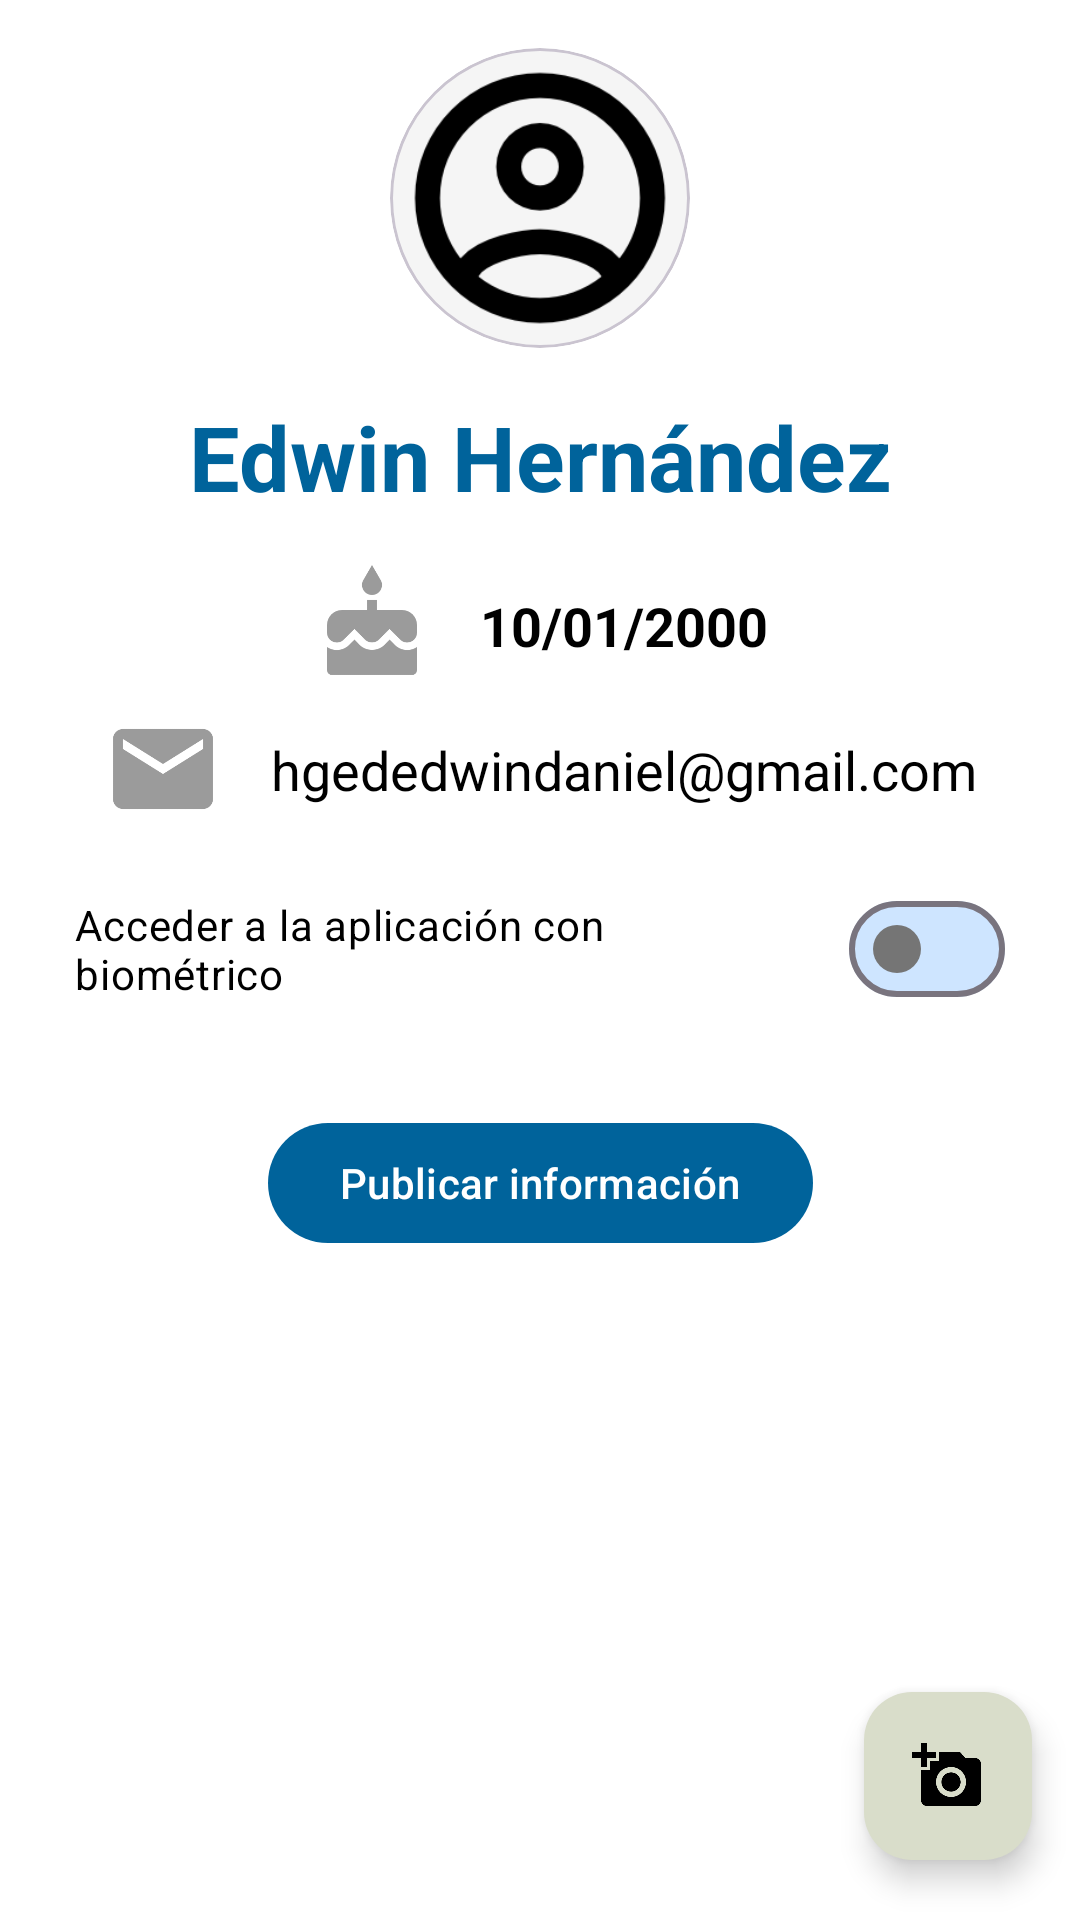

Icon click points for this 1080px×1920px phone screenshot, format (x,y):
birthday: (372,620)
camera: (948,1776)
email: (163,769)
